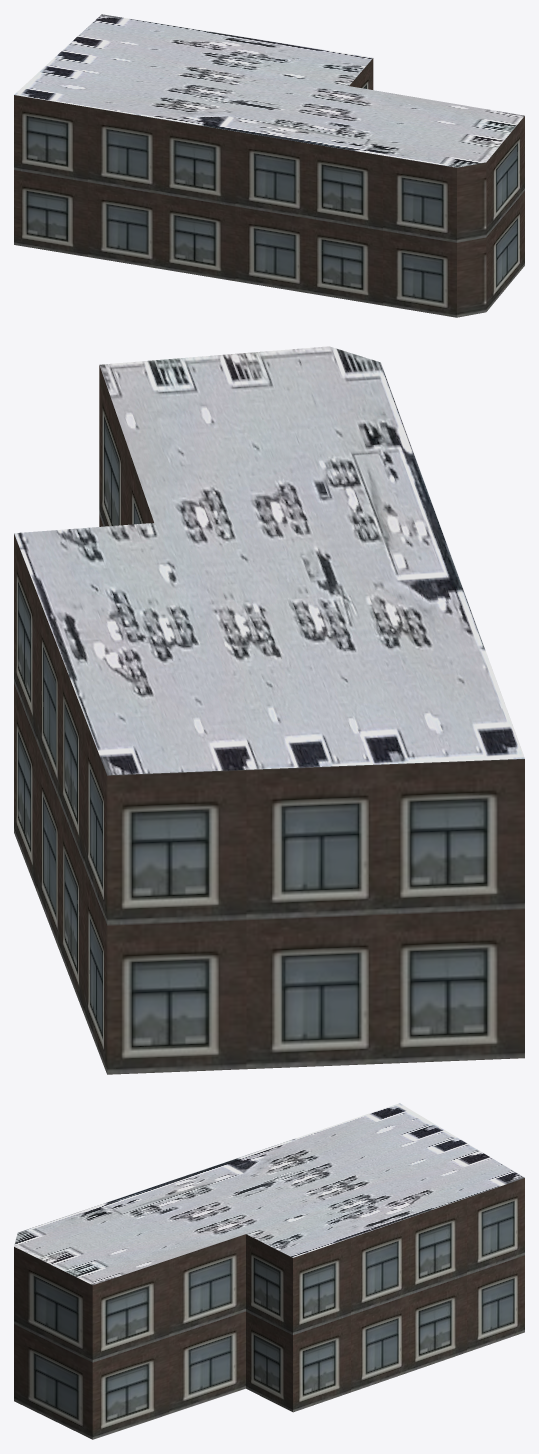
Rendered from ResTex__4785.fbx.
The picture shows the model from 3 angles, top to bottom: view 1: azimuth 30°, elevation 25°; view 2: azimuth 150°, elevation 25°; view 3: azimuth 270°, elevation 25°; orthographic projection. The views are drawn at different scales.
Parts seen in each view (by area): view 1: CityEngineMaterial_16_m, CityEngineMaterial_15_m; view 2: CityEngineMaterial_16_m, CityEngineMaterial_15_m; view 3: CityEngineMaterial_16_m, CityEngineMaterial_15_m.
Boxes of the visible parts, <box> form: CityEngineMaterial_16_m: <box>14,58,524,317</box>; CityEngineMaterial_15_m: <box>14,14,524,167</box>; CityEngineMaterial_16_m: <box>14,365,524,1074</box>; CityEngineMaterial_15_m: <box>14,346,524,775</box>; CityEngineMaterial_16_m: <box>14,1178,524,1439</box>; CityEngineMaterial_15_m: <box>14,1103,524,1284</box>.
Bounding box in the file's own units: 15.16 × 6 × 17.98.
Materials: 2 (2 with a texture image).
